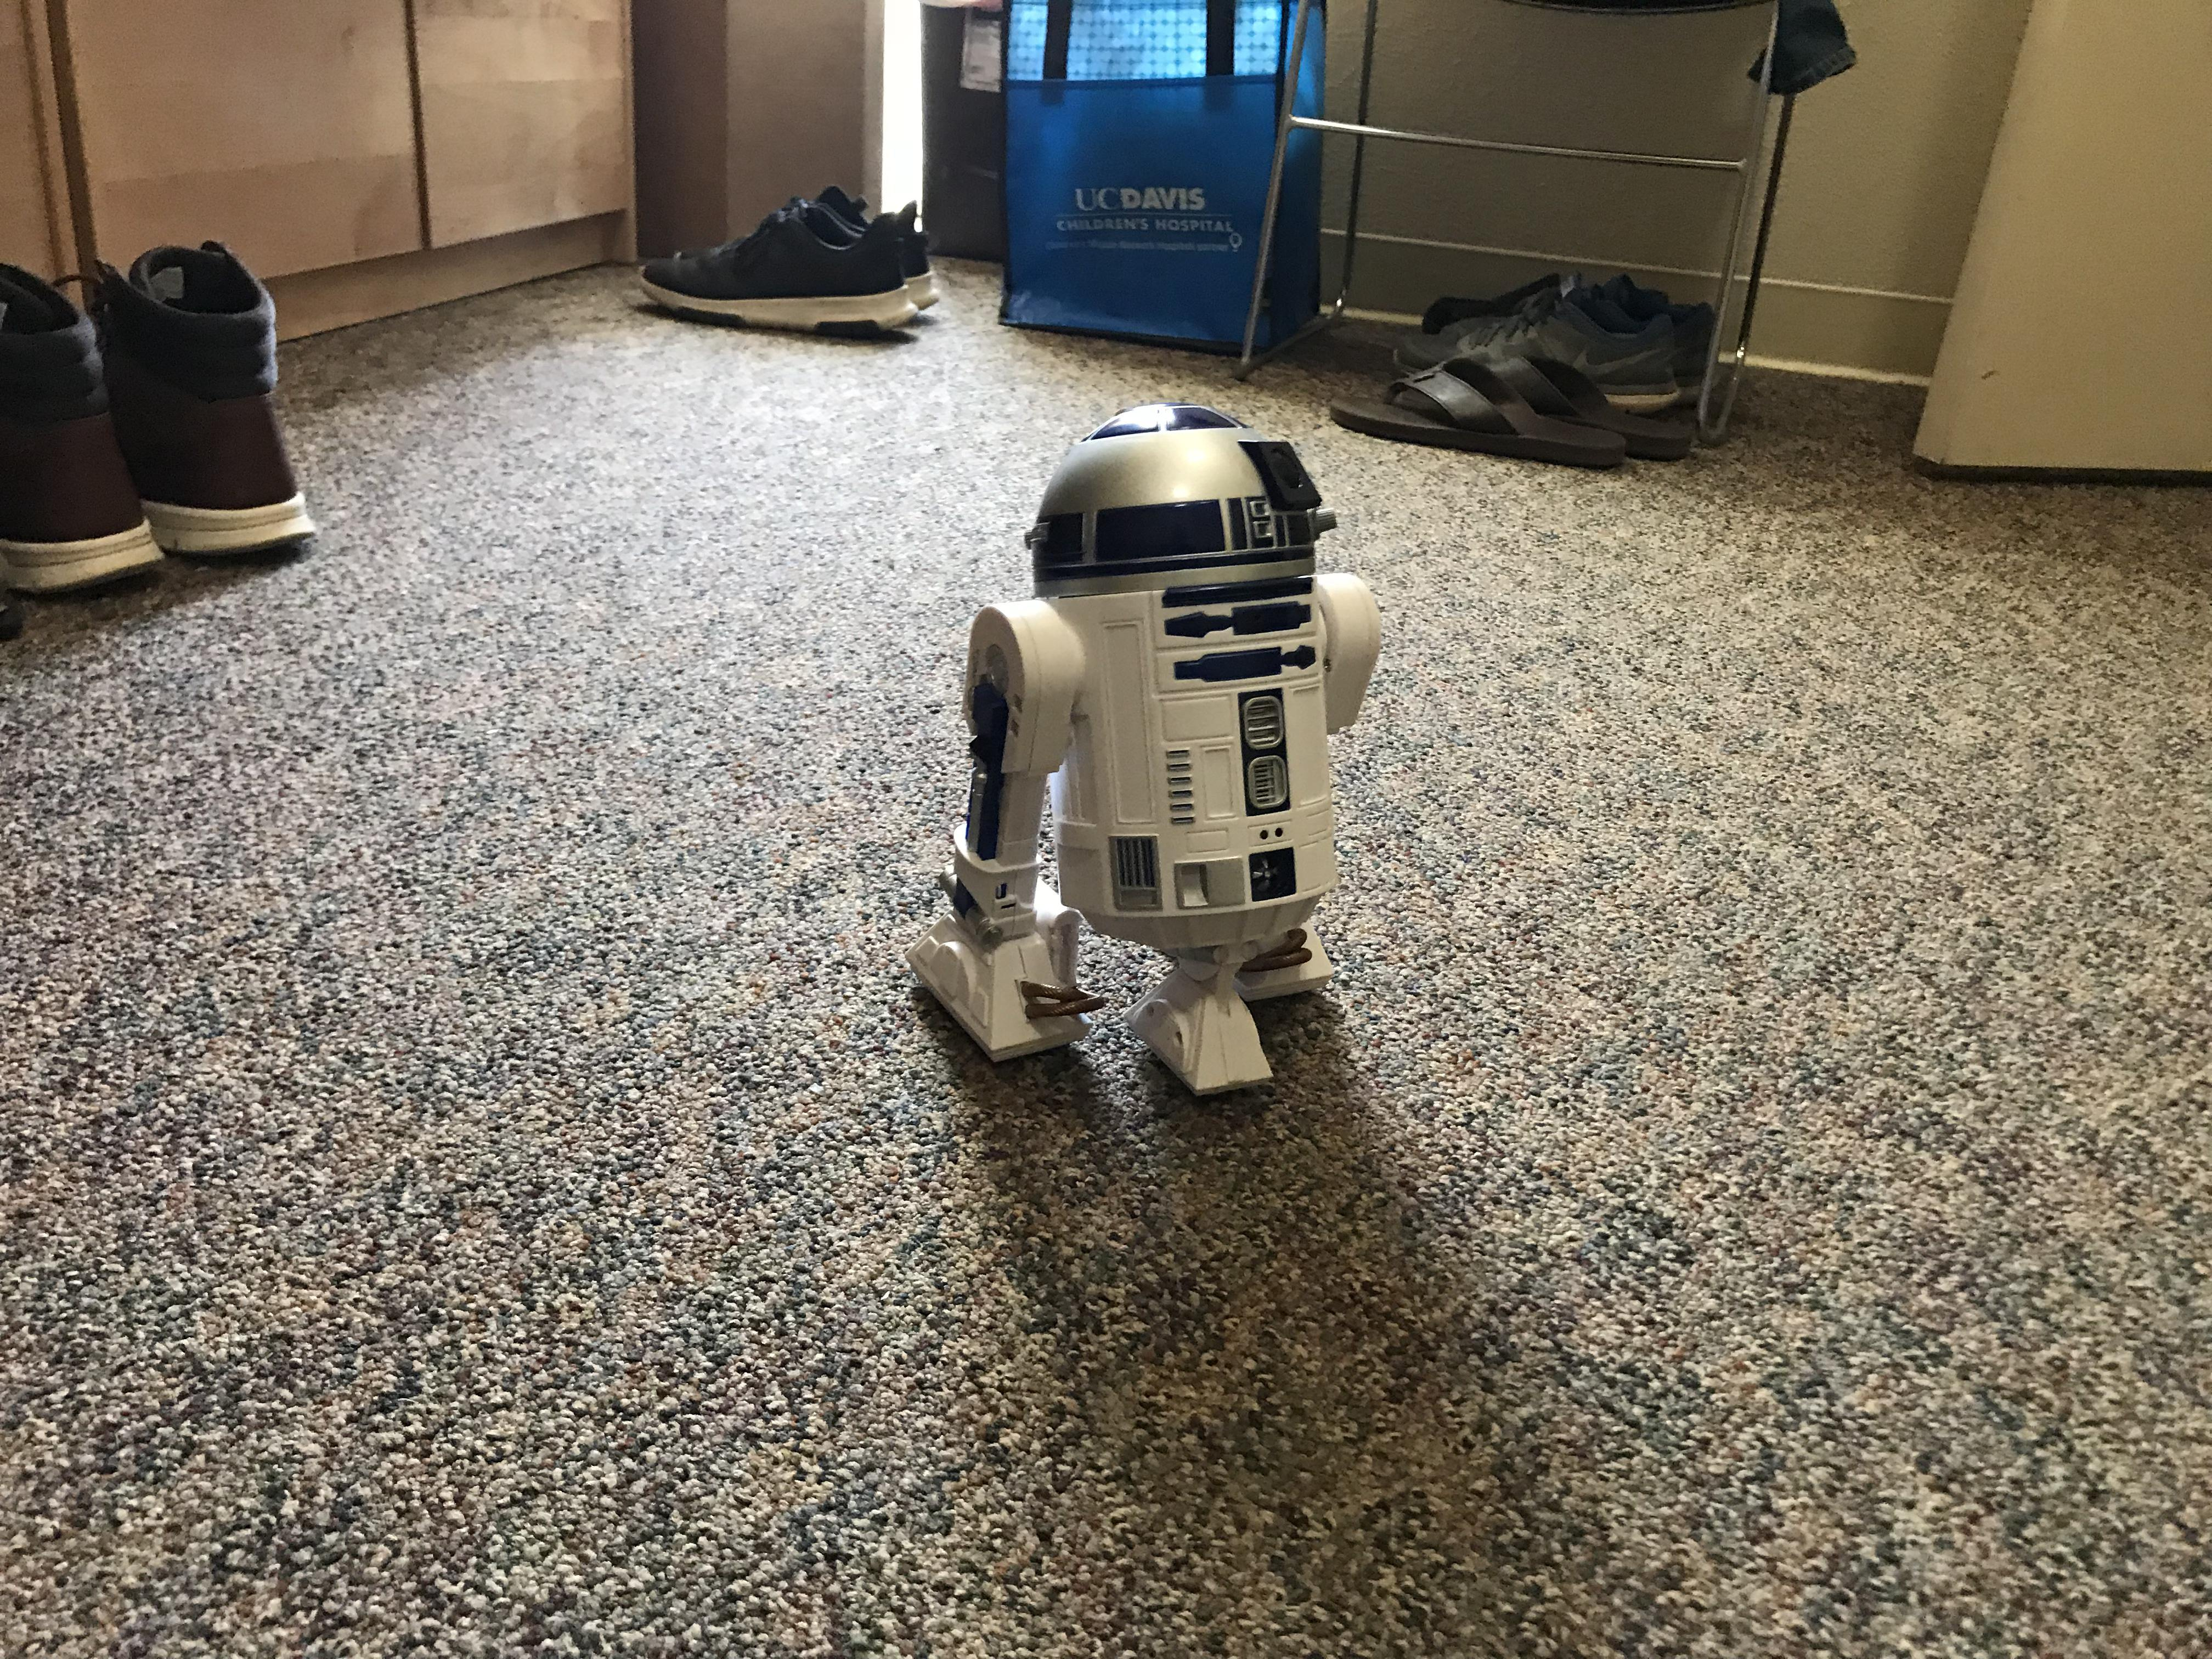r2d2: (904, 404, 1378, 1093)
